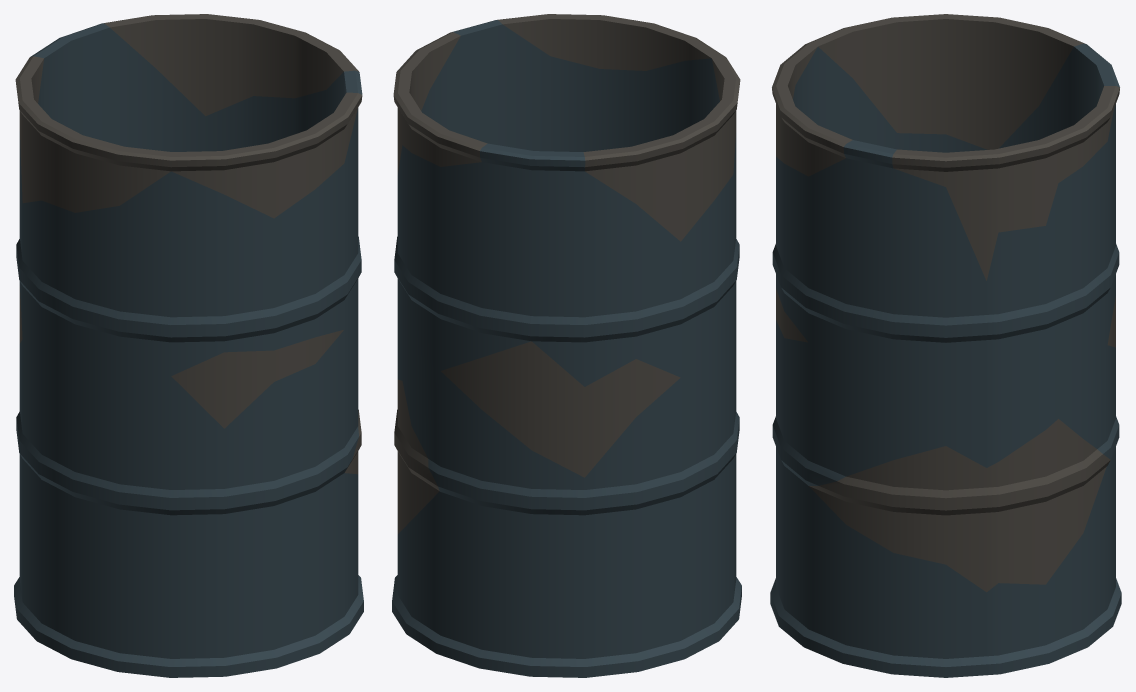
Rendered from prop_barrel.glb.
3 views of the same model, side by side, from view 1: azimuth 30°, elevation 25°; view 2: azimuth 150°, elevation 25°; view 3: azimuth 270°, elevation 25° (orthographic).
Parts seen in each view (by area): view 1: Barrel; view 2: Barrel; view 3: Barrel.
Part boxes in pixels (bbox=[...]): Barrel: bbox=[14, 14, 363, 677]; Barrel: bbox=[392, 14, 741, 677]; Barrel: bbox=[770, 14, 1121, 677].
Bounding box in the file's own units: 0.7041 × 1.14 × 0.7041.
1 material, 1 textured.
